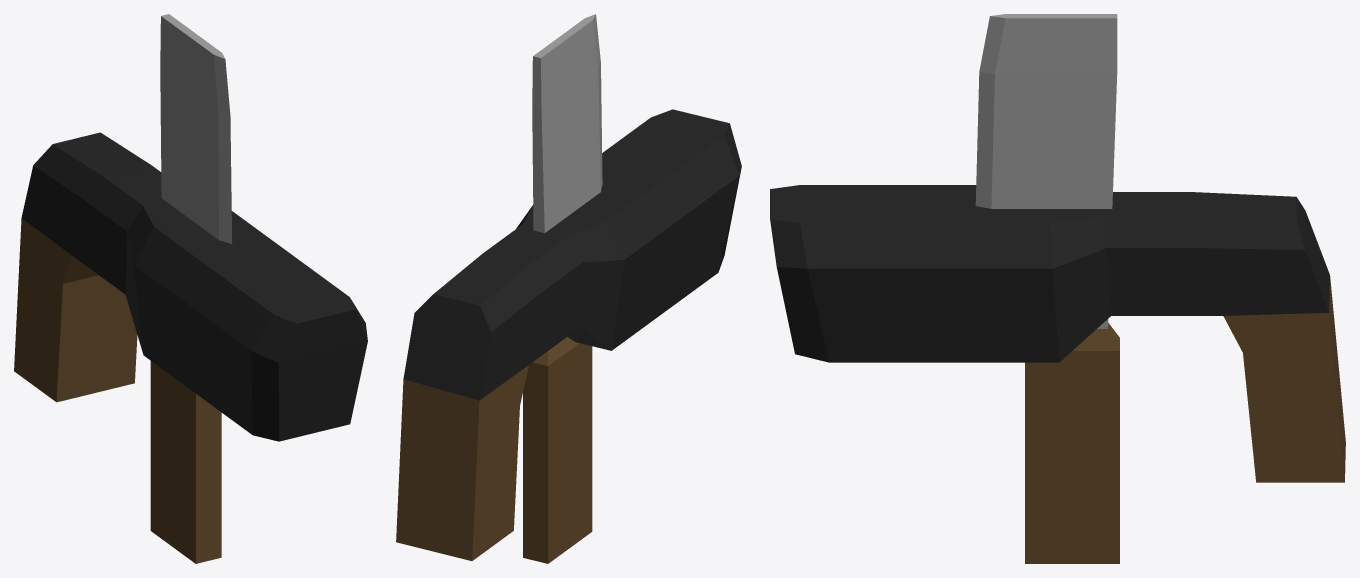
The model's file is items.obj.
3 views of the same model, side by side, from view 1: azimuth 30°, elevation 25°; view 2: azimuth 150°, elevation 25°; view 3: azimuth 270°, elevation 25° (orthographic). The views are drawn at different scales.
Visible parts, largest first — view 1: 15, 4; view 2: 15, 4; view 3: 15, 4.
Boxes of the visible parts, x1,y1,x2,y2 form: 15: [14, 132, 367, 441]; 4: [150, 14, 232, 563]; 15: [396, 109, 741, 560]; 4: [523, 14, 602, 563]; 15: [770, 185, 1345, 482]; 4: [975, 14, 1119, 563].
Bounding box in the file's own units: 0.1505 × 0.6463 × 0.6232.
